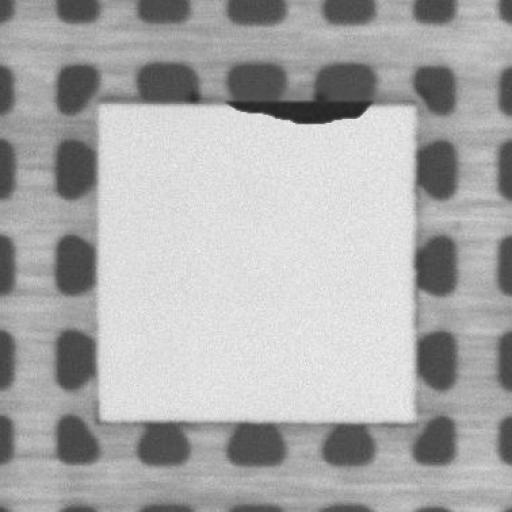DIE_BROKEN: (222, 94, 374, 122)
